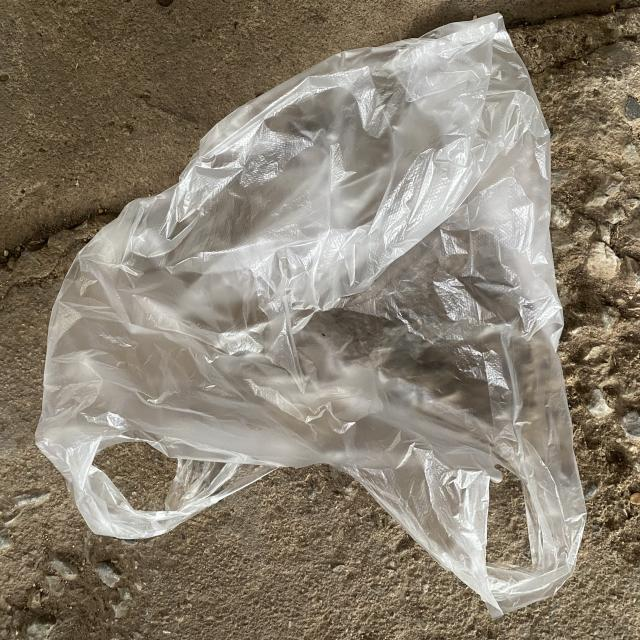Single-layer Plastic: (36, 15, 585, 616)
